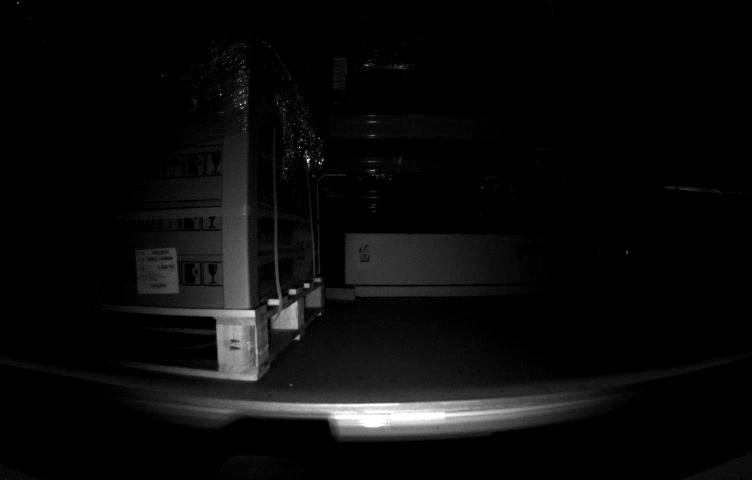True Barcode: (133, 249, 180, 297)
